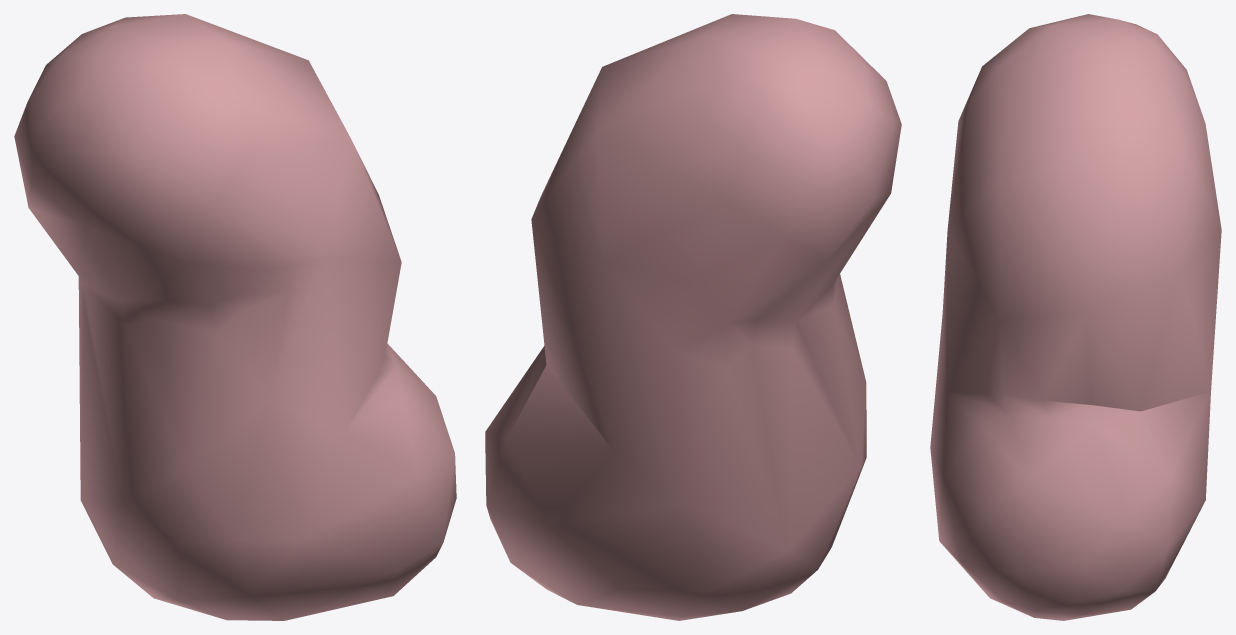
The model's file is fma14966_fj2591.glb.
3 renders of one model, left to right at view 1: azimuth 30°, elevation 25°; view 2: azimuth 150°, elevation 25°; view 3: azimuth 270°, elevation 25°, orthographic. The views are drawn at different scales.
Parts seen in each view (by area): view 1: FMA14966_FJ2591; view 2: FMA14966_FJ2591; view 3: FMA14966_FJ2591.
Part boxes in pixels (bbox=[...]): FMA14966_FJ2591: bbox=[14, 14, 456, 620]; FMA14966_FJ2591: bbox=[485, 14, 901, 620]; FMA14966_FJ2591: bbox=[930, 14, 1221, 620].
Size of the model in its own units: 0.0296 by 0.043 by 0.0223.
